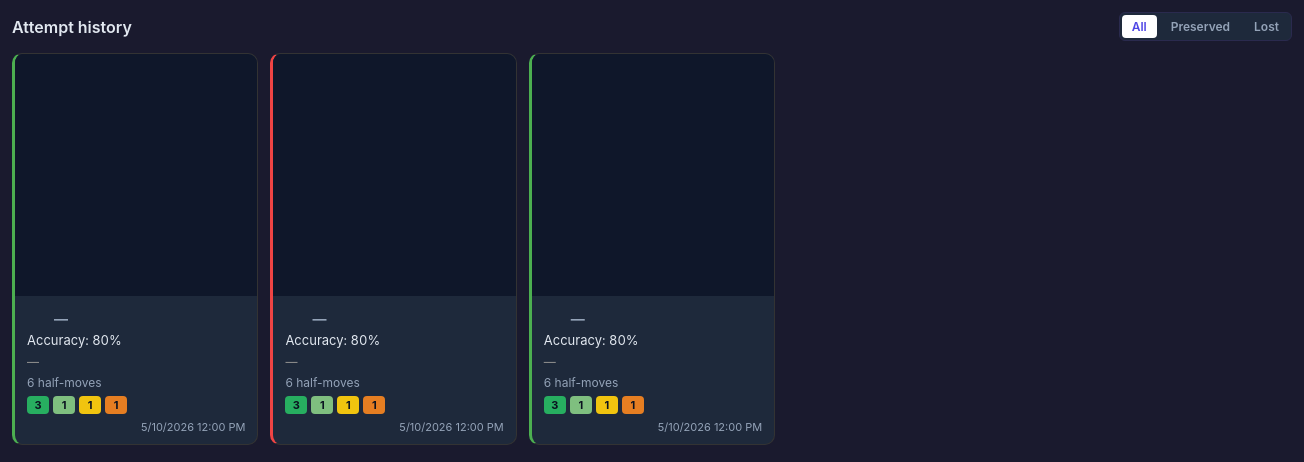
Scenario: <PrecisionAttemptsList> › фильтр Preserved оставляет только solved=true
Check: the list item with test id "precision-attempts-row-a1" is shown, box top-left (12, 53), bottom-right (258, 445)
Step 1. Click the tab with test id "precision-attempts-filter-preserved" → (1200, 26), box top-left (1161, 15), bottom-right (1240, 38)
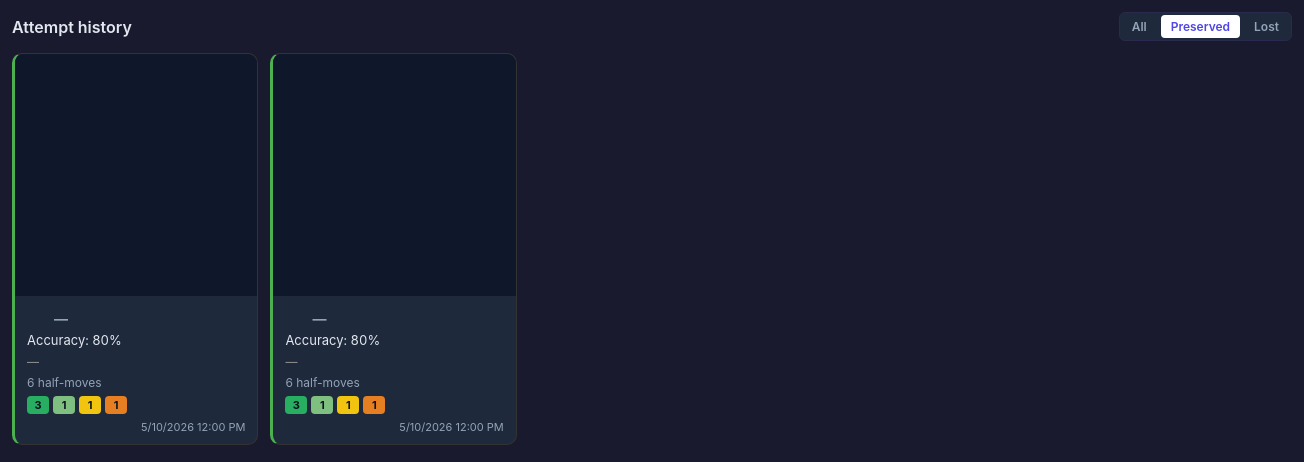
Check: the list item with test id "precision-attempts-row-a1" is shown, box top-left (12, 53), bottom-right (258, 445)
Check: the list item with test id "precision-attempts-row-a2" is gone
